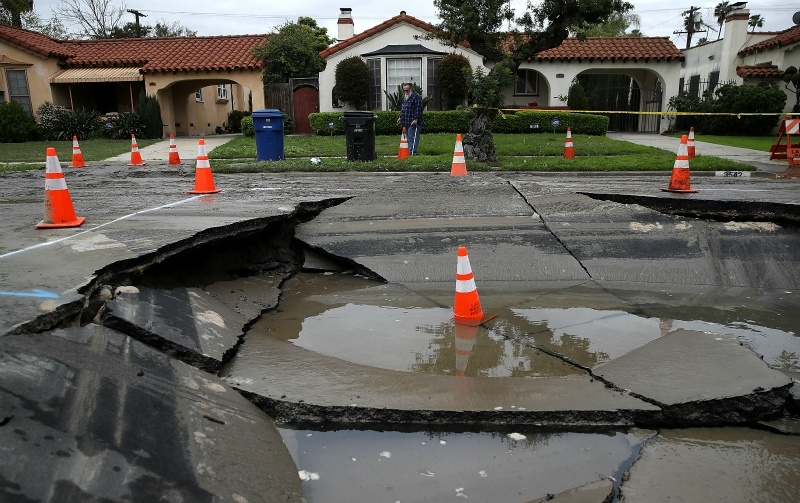pothole: (94, 203, 391, 309)
